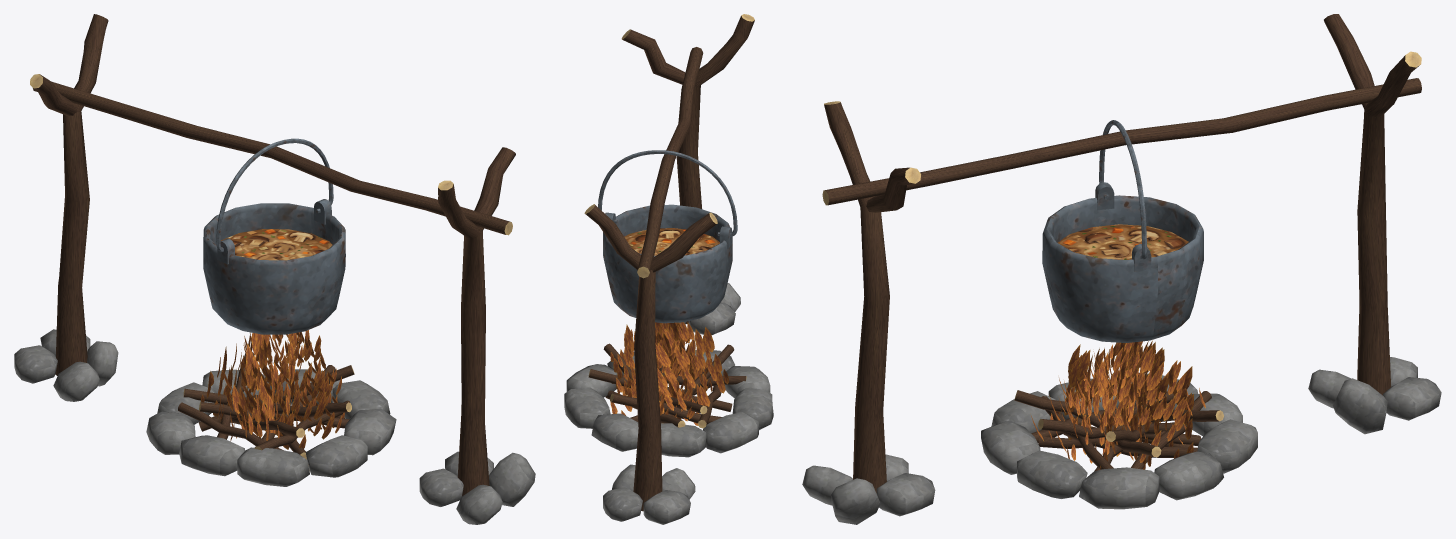
The model's file is fireplace.obj.
3 renders of one model, left to right at view 1: azimuth 30°, elevation 25°; view 2: azimuth 150°, elevation 25°; view 3: azimuth 270°, elevation 25°, orthographic. The views are drawn at different scales.
Parts seen in each view (by area): view 1: Pan_Metal, Stick_Base_L_Wood, Fire_Fire, Stick_Base_R_Wood, Stick_Suport_Wood, Stick_Fire_Wood, Pan_Soup, Rocks.006_Rocks, Rocks.007_Rocks, Rocks.005_Rocks, Rocks.011_Rocks, Rocks.004_Rocks (+8 smaller); view 2: Pan_Metal, Stick_Base_L_Wood, Fire_Fire, Stick_Base_R_Wood, Stick_Suport_Wood, Stick_Fire_Wood, Rocks.008_Rocks, Rocks.001_Rocks, Rocks.002_Rocks, Rocks_Rocks, Rocks.013_Rocks, Pan_Soup (+9 smaller); view 3: Pan_Metal, Stick_Base_L_Wood, Fire_Fire, Stick_Base_R_Wood, Stick_Suport_Wood, Stick_Fire_Wood, Pan_Soup, Rocks.003_Rocks, Rocks.004_Rocks, Rocks.002_Rocks, Rocks.015_Rocks, Rocks.001_Rocks (+8 smaller).
Boxes of the visible parts, x1=… form: Pan_Metal: x1=203, y1=138, x2=345, y2=334; Stick_Base_L_Wood: x1=34, y1=14, x2=108, y2=375; Fire_Fire: x1=201, y1=330, x2=344, y2=449; Stick_Base_R_Wood: x1=438, y1=147, x2=515, y2=496; Stick_Suport_Wood: x1=33, y1=81, x2=510, y2=234; Stick_Fire_Wood: x1=178, y1=352, x2=354, y2=464; Pan_Soup: x1=221, y1=229, x2=332, y2=260; Rocks.006_Rocks: x1=237, y1=447, x2=309, y2=486; Rocks.007_Rocks: x1=179, y1=435, x2=244, y2=476; Rocks.005_Rocks: x1=305, y1=435, x2=367, y2=477; Rocks.011_Rocks: x1=489, y1=452, x2=535, y2=506; Rocks.004_Rocks: x1=344, y1=408, x2=396, y2=455; Pan_Metal: x1=598, y1=150, x2=737, y2=323; Stick_Base_L_Wood: x1=585, y1=205, x2=716, y2=511; Fire_Fire: x1=610, y1=322, x2=728, y2=425; Stick_Base_R_Wood: x1=622, y1=16, x2=754, y2=324; Stick_Suport_Wood: x1=637, y1=47, x2=703, y2=271; Stick_Fire_Wood: x1=588, y1=343, x2=745, y2=427; Rocks.008_Rocks: x1=703, y1=412, x2=758, y2=453; Rocks.001_Rocks: x1=591, y1=413, x2=638, y2=451; Rocks.002_Rocks: x1=564, y1=387, x2=610, y2=428; Rocks_Rocks: x1=661, y1=423, x2=706, y2=457; Rocks.013_Rocks: x1=643, y1=490, x2=690, y2=524; Pan_Soup: x1=624, y1=228, x2=719, y2=255; Pan_Metal: x1=1042, y1=120, x2=1203, y2=342; Stick_Base_L_Wood: x1=1324, y1=14, x2=1419, y2=395; Fire_Fire: x1=1031, y1=340, x2=1205, y2=469; Stick_Base_R_Wood: x1=824, y1=102, x2=914, y2=492; Stick_Suport_Wood: x1=824, y1=78, x2=1421, y2=205; Stick_Fire_Wood: x1=1014, y1=390, x2=1219, y2=471; Pan_Soup: x1=1057, y1=224, x2=1188, y2=259; Rocks.003_Rocks: x1=1079, y1=467, x2=1159, y2=509; Rocks.004_Rocks: x1=1017, y1=450, x2=1087, y2=498; Rocks.002_Rocks: x1=1154, y1=451, x2=1223, y2=500; Rocks.015_Rocks: x1=1333, y1=378, x2=1387, y2=434; Rocks.001_Rocks: x1=1197, y1=419, x2=1257, y2=473.
Size of the model in its own units: 2.34 by 2.67 by 3.94.
